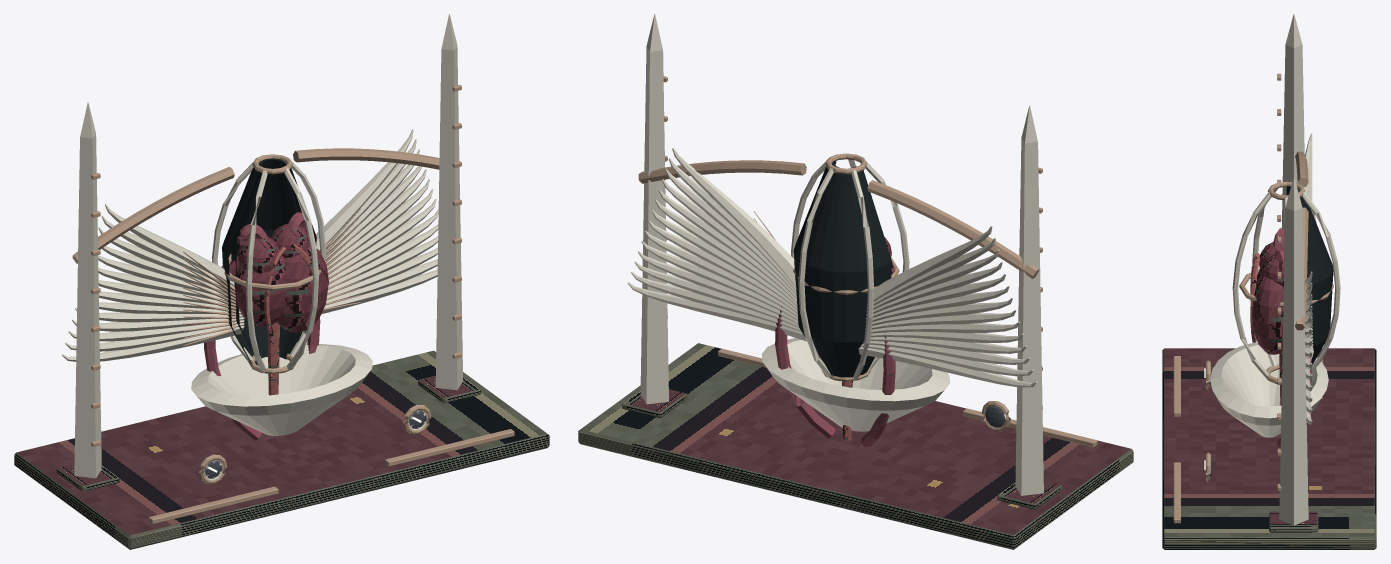
File: heart_winged_seal.glb
The picture shows the model from 3 angles, left to right: view 1: azimuth 30°, elevation 25°; view 2: azimuth 150°, elevation 25°; view 3: azimuth 270°, elevation 25°; orthographic projection. The views are drawn at different scales.
Visible parts, largest first — view 1: heart_winged_seal_warm, heart_winged_seal_petrol, heart_winged_seal_worn, heart_winged_seal_bruised, heart_winged_seal_suture; view 2: heart_winged_seal_petrol, heart_winged_seal_warm, heart_winged_seal_worn, heart_winged_seal_bruised; view 3: heart_winged_seal_petrol, heart_winged_seal_warm, heart_winged_seal_worn, heart_winged_seal_bruised, heart_winged_seal_suture.
Boxes of the visible parts, <box> form: heart_winged_seal_warm: <box>62,14,463,480</box>; heart_winged_seal_petrol: <box>14,158,549,549</box>; heart_winged_seal_worn: <box>72,84,514,523</box>; heart_winged_seal_bruised: <box>204,212,328,440</box>; heart_winged_seal_suture: <box>264,243,312,395</box>; heart_winged_seal_petrol: <box>578,161,1133,549</box>; heart_winged_seal_warm: <box>627,14,1043,495</box>; heart_winged_seal_worn: <box>638,76,1097,447</box>; heart_winged_seal_bruised: <box>775,231,895,447</box>; heart_winged_seal_petrol: <box>1162,185,1376,549</box>; heart_winged_seal_warm: <box>1206,14,1340,525</box>; heart_winged_seal_worn: <box>1173,73,1333,523</box>; heart_winged_seal_bruised: <box>1252,228,1311,448</box>; heart_winged_seal_suture: <box>1250,253,1282,405</box>.
Size of the model in its own units: 7.35 by 6.49 by 3.5.
7 materials, 3 textured.
